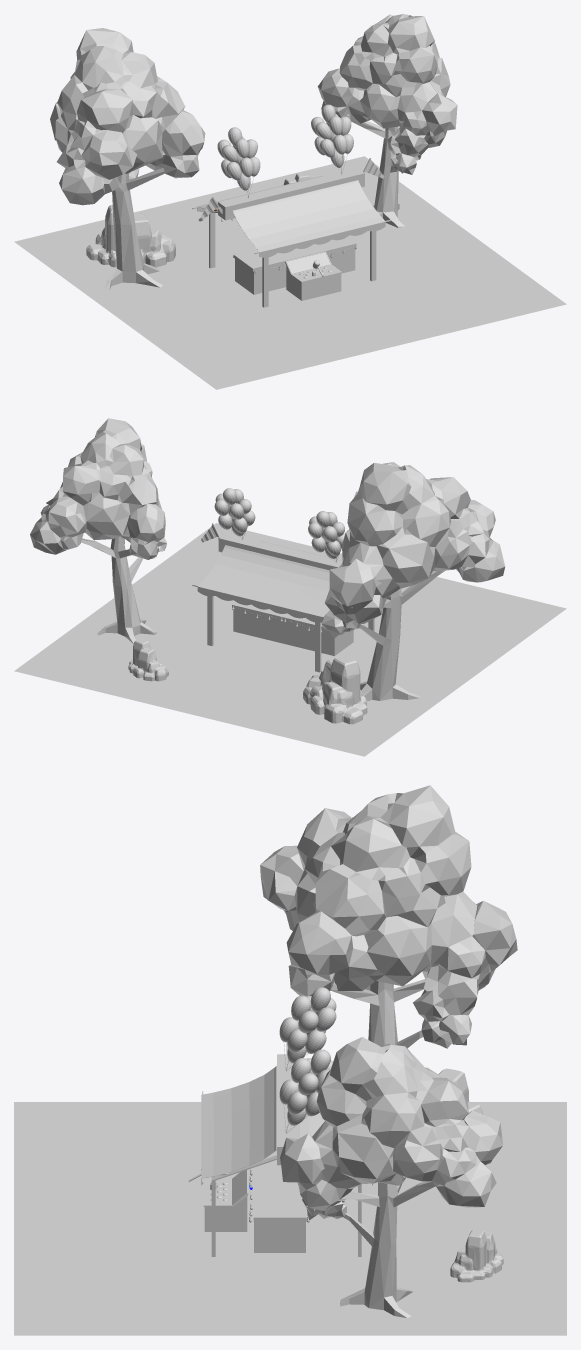
Rendered from Juego Martillo.fbx.
3 renders of one model, top to bottom at view 1: azimuth 30°, elevation 25°; view 2: azimuth 150°, elevation 25°; view 3: azimuth 270°, elevation 25°, orthographic. The views are drawn at different scales.
Visible parts, largest first — view 1: Plane, _6_tree.002, _6_tree.001, Plane.006, Cube.057, Rock_1_, Cube, Cube.041, Cube.003; view 2: Plane, _6_tree.002, _6_tree.001, Plane.007, Rock_1_, Cube.057, Cube.041, Rock_1_.002, Cube.003; view 3: Plane, _6_tree.002, _6_tree.001, Plane.006, Cube.057, Cube, Rock_1_.002, Cube.041, Cube.003.
Part boxes in pixels (left/top/right/bottom): Plane: left=14, top=156, right=566, bottom=389; _6_tree.002: left=50, top=28, right=205, bottom=290; _6_tree.001: left=317, top=14, right=457, bottom=227; Plane.006: left=232, top=180, right=385, bottom=257; Cube.057: left=233, top=237, right=356, bottom=294; Rock_1_: left=86, top=205, right=175, bottom=267; Cube: left=285, top=251, right=341, bottom=300; Cube.041: left=218, top=168, right=364, bottom=220; Cube.003: left=209, top=211, right=376, bottom=307; Plane: left=14, top=523, right=566, bottom=756; _6_tree.002: left=321, top=462, right=505, bottom=701; _6_tree.001: left=30, top=418, right=166, bottom=643; Plane.007: left=197, top=545, right=329, bottom=622; Rock_1_: left=303, top=655, right=367, bottom=724; Cube.057: left=232, top=602, right=353, bottom=655; Cube.041: left=218, top=533, right=342, bottom=570; Rock_1_.002: left=128, top=638, right=168, bottom=681; Cube.003: left=207, top=596, right=374, bottom=672; Plane: left=14, top=1102, right=566, bottom=1335; _6_tree.002: left=260, top=785, right=517, bottom=1048; _6_tree.001: left=280, top=1037, right=502, bottom=1318; Plane.006: left=201, top=1065, right=276, bottom=1185; Cube.057: left=253, top=1150, right=306, bottom=1252; Cube: left=203, top=1169, right=248, bottom=1231; Rock_1_.002: left=450, top=1229, right=503, bottom=1282; Cube.041: left=277, top=1054, right=296, bottom=1165; Cube.003: left=211, top=1155, right=361, bottom=1256.
Bounding box in the file's own units: 1566 × 885 × 1329.
